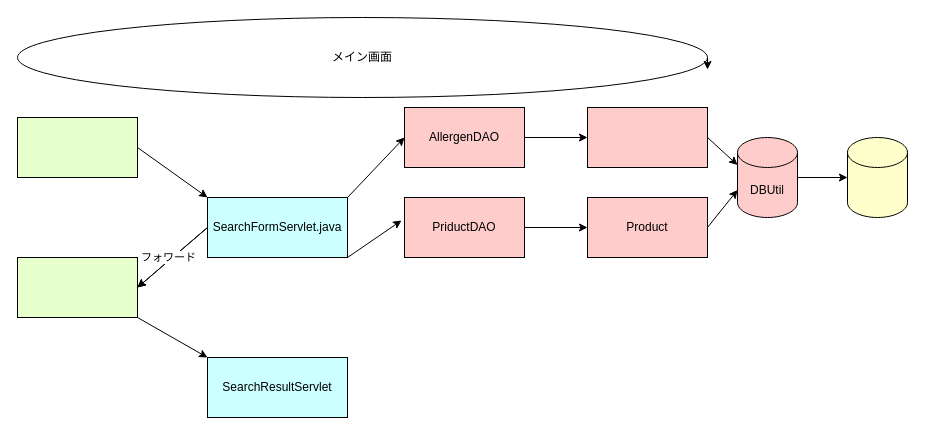
Image size: 925x435. Some labels were removed from this diagram. The shapes that lost their labels are listed below. From the top down, each one's centre as x and y in pixels, then its label:
point (77, 147): mainMenu.jsp
point (647, 137): Allergen
point (877, 177): DB
point (77, 287): searchForm.jsp
